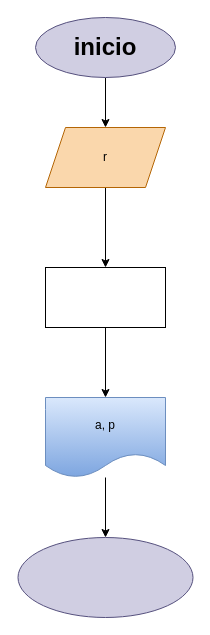
Image size: 210x635. Some labels were removed from this diagram. The centre of each missing label's shape, as x and y in pixels:
a = π r² p = 2 π r: (x=105, y=297)
FIN: (x=105, y=577)
